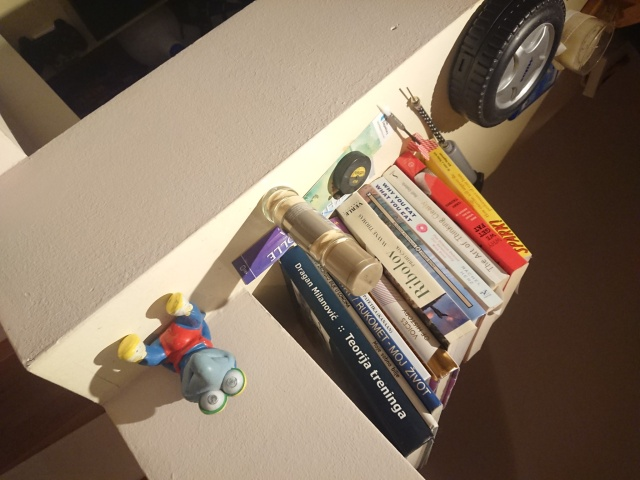Kotanyi Garlic Granules 70g: (260, 184, 386, 298)
